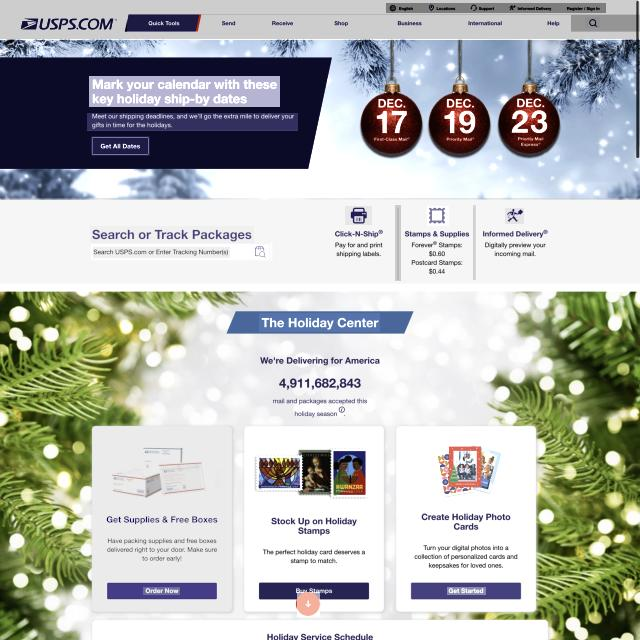CheckBox: (410, 582, 522, 600), (106, 582, 218, 600), (91, 136, 150, 156), (297, 592, 320, 617)
CheckedTextView: (92, 243, 274, 261)
Input field: (87, 114, 298, 132)
Spinner: (92, 426, 233, 613)
accordion: (395, 205, 401, 281), (473, 205, 478, 280)
bag: (0, 0, 638, 39)
breadcrumbs: (89, 76, 280, 107), (90, 226, 254, 243)
card: (0, 39, 640, 198)
carousel: (345, 206, 372, 225), (427, 206, 449, 226), (505, 208, 524, 224), (254, 246, 270, 258), (585, 17, 600, 28)
copy: (251, 443, 372, 502), (106, 441, 215, 501), (423, 442, 511, 499)
data feed: (100, 142, 140, 151), (447, 587, 486, 595), (143, 587, 180, 595)
date picker: (17, 14, 120, 36)
decoration: (127, 15, 571, 32), (386, 3, 606, 13)
footer: (95, 247, 232, 258)
image: (259, 313, 380, 332)
